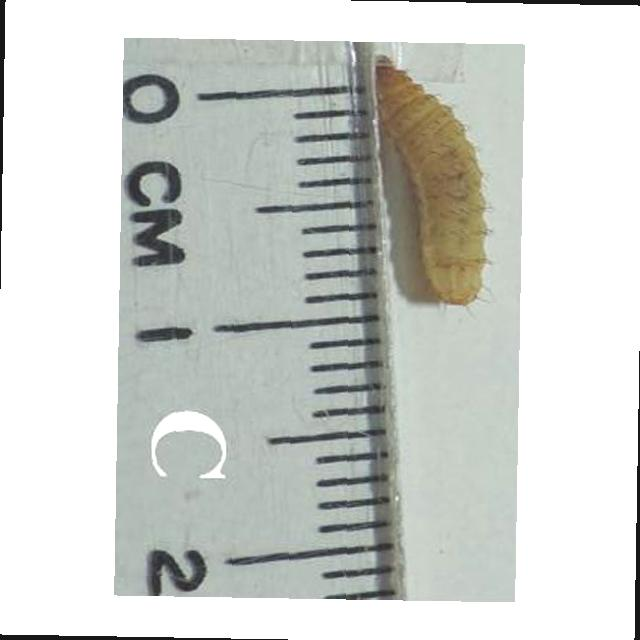Maggot: (377, 55, 491, 309)
